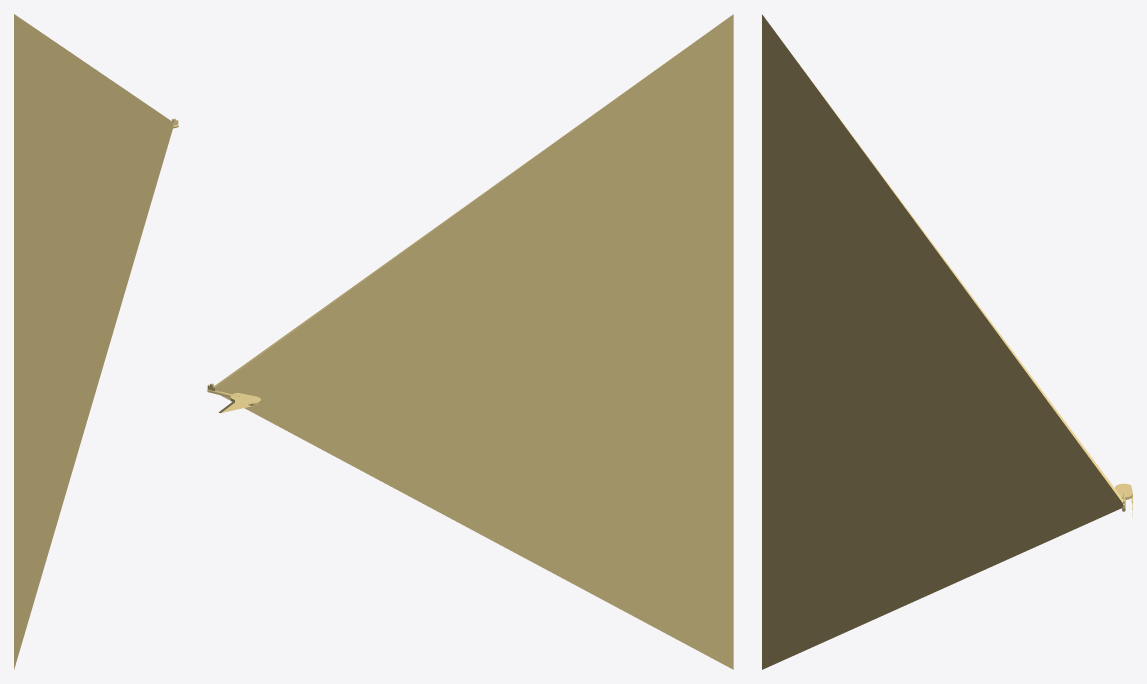
Rendered from SM_Prop_Key_01.glb.
3 renders of one model, left to right at view 1: azimuth 30°, elevation 25°; view 2: azimuth 150°, elevation 25°; view 3: azimuth 270°, elevation 25°, orthographic.
Visible parts, largest first — view 1: SM_Prop_Key_01; view 2: SM_Prop_Key_01; view 3: SM_Prop_Key_01.
Boxes of the visible parts, left/top/right/bottom form: SM_Prop_Key_01: left=14, top=14, right=178, bottom=669; SM_Prop_Key_01: left=207, top=14, right=733, bottom=669; SM_Prop_Key_01: left=762, top=14, right=1132, bottom=669.
Bounding box in the file's own units: 0.55 × 1 × 0.5125.
